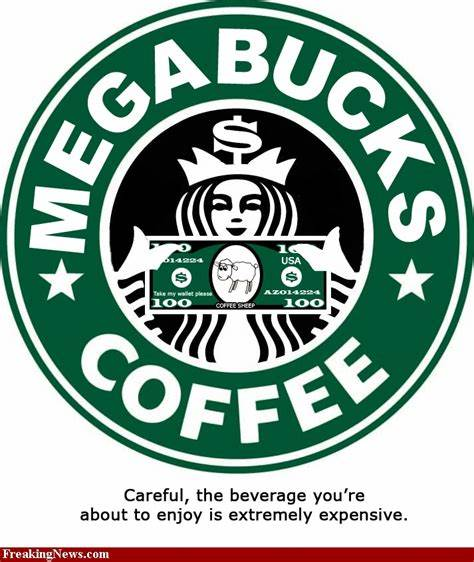starbucks Fake: (1, 4, 474, 485)
